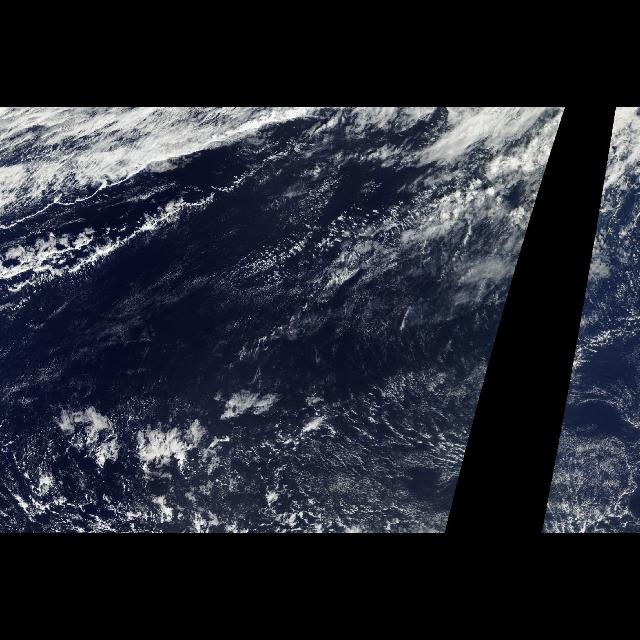Sugar: (308, 316, 504, 518), (542, 316, 636, 518)
